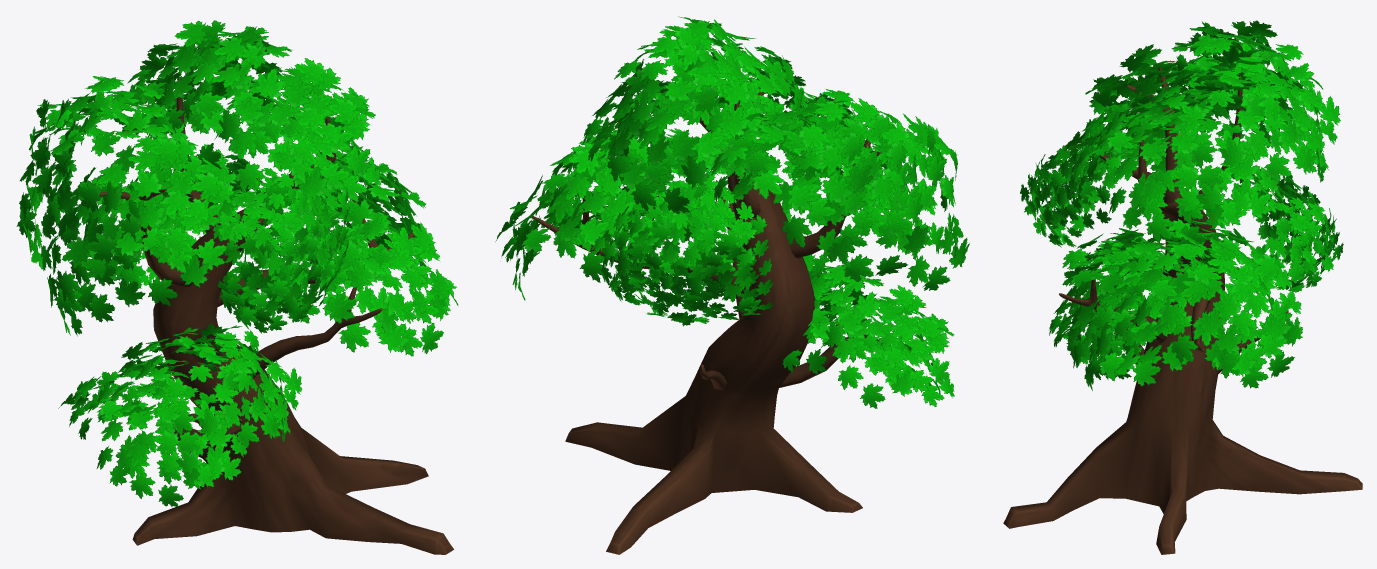
The model's file is Arbol_01.fbx.
3 views of the same model, side by side, from view 1: azimuth 30°, elevation 25°; view 2: azimuth 150°, elevation 25°; view 3: azimuth 270°, elevation 25° (orthographic). The views are drawn at different scales.
Parts seen in each view (by area): view 1: Arbol_01; view 2: Arbol_01; view 3: Arbol_01.
Part boxes in pixels (x1,y1,x2,y2): Arbol_01: [16, 20, 458, 554]; Arbol_01: [495, 16, 969, 554]; Arbol_01: [1003, 20, 1362, 554].
Bounding box in the file's own units: 188 × 204 × 154.
1 material, 1 textured.
